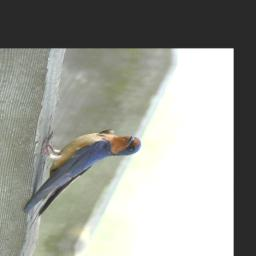Swallow: (15, 122, 147, 240)
